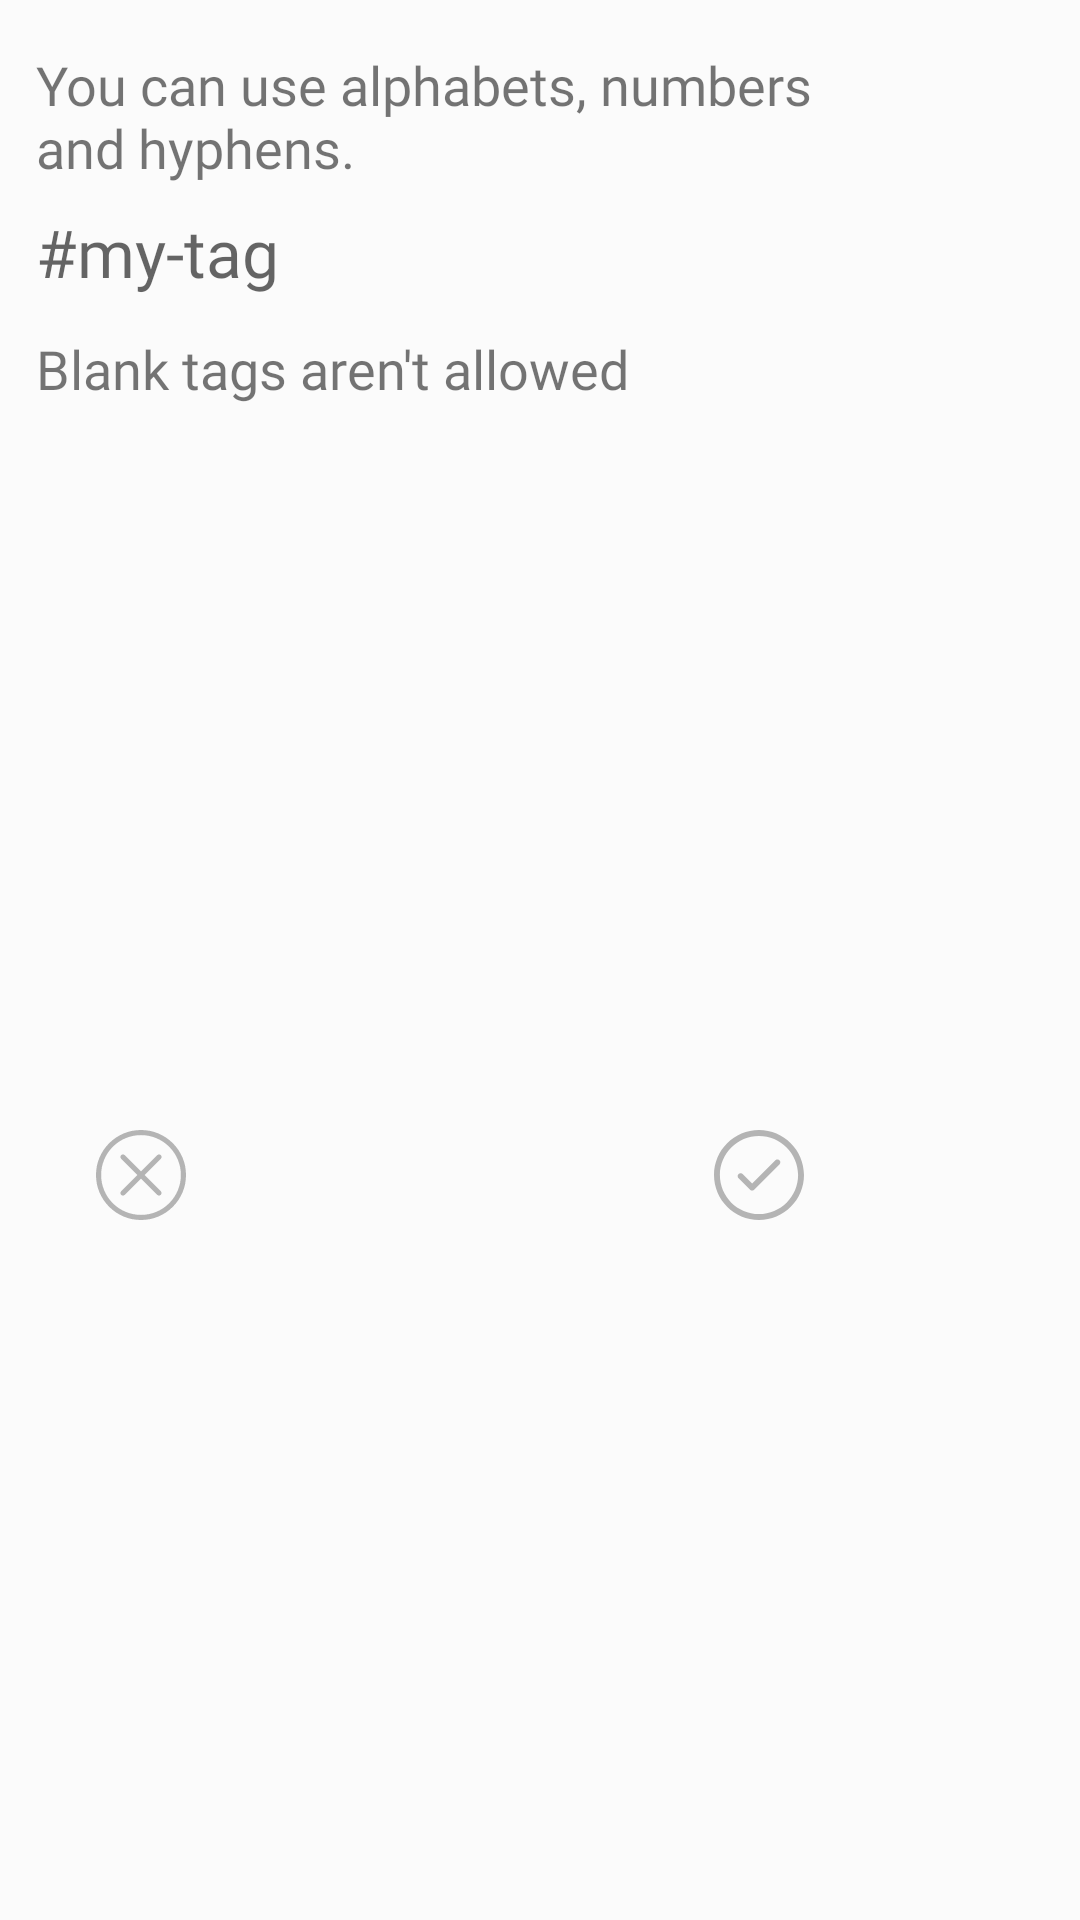

Point at icon controls on the screen. Image size 1080 x 1920, points as (x=x, y=y).
close: (x=141, y=1175)
done: (x=759, y=1175)
